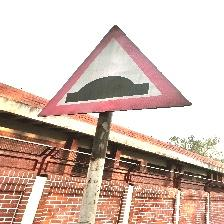Speed-breaker: (38, 25, 191, 115)
